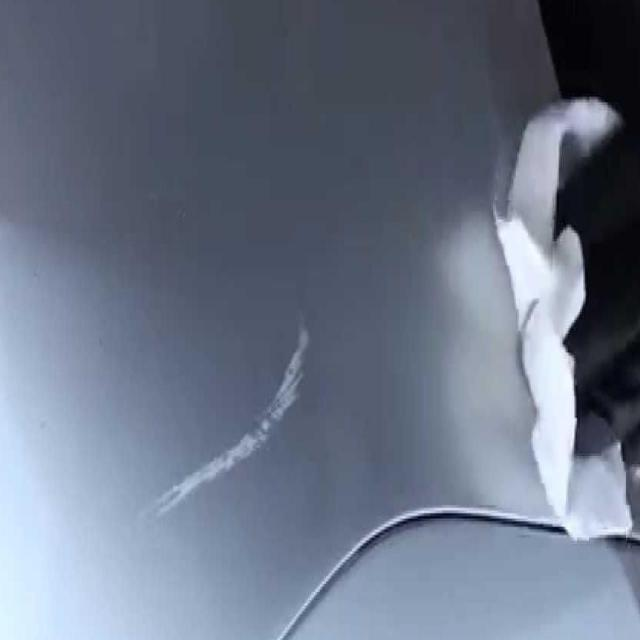scratch: (130, 301, 316, 530)
